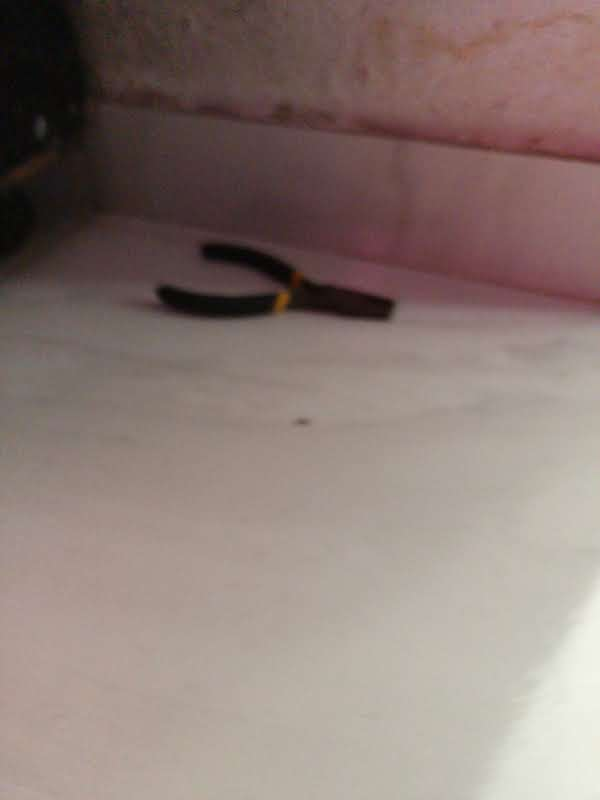Pinzas: (155, 237, 395, 319)
